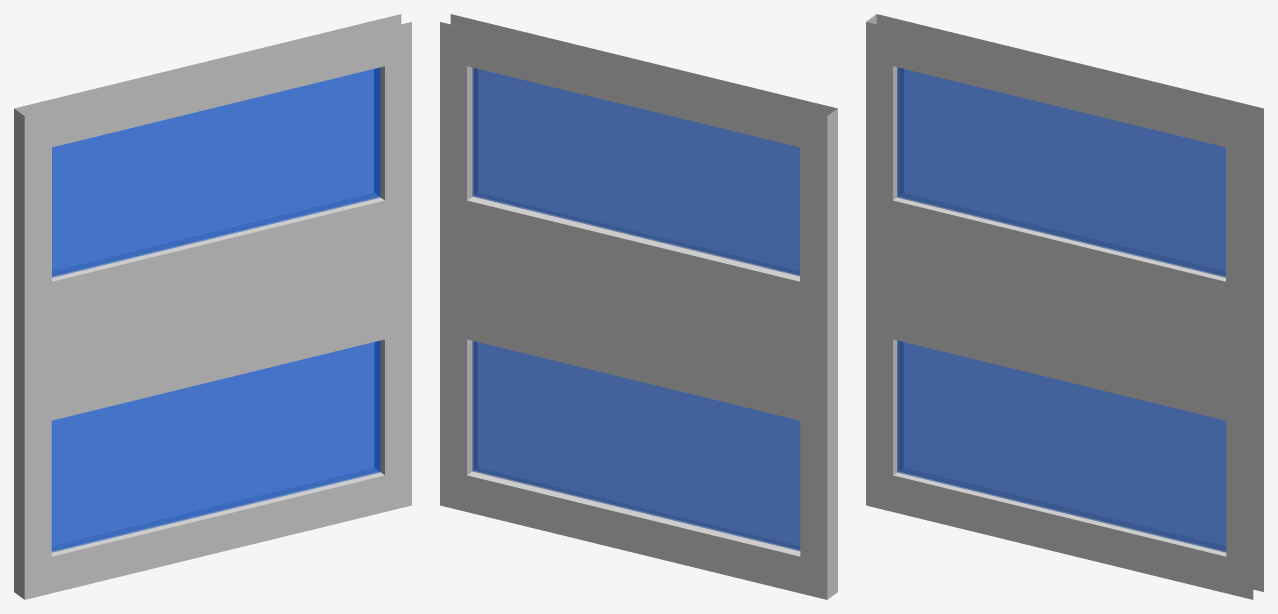
File: elevatordoor_3ds.fbx
3 views of the same model, side by side, from view 1: azimuth 30°, elevation 25°; view 2: azimuth 150°, elevation 25°; view 3: azimuth 330°, elevation 25° (orthographic).
Parts seen in each view (by area): view 1: ElevatorDoor001; view 2: ElevatorDoor001; view 3: ElevatorDoor001.
Boxes of the visible parts, left/top/right/bottom form: ElevatorDoor001: left=14, top=14, right=411, bottom=599; ElevatorDoor001: left=440, top=14, right=837, bottom=599; ElevatorDoor001: left=866, top=14, right=1263, bottom=599.
Bounding box in the file's own units: 1.97 × 2.36 × 0.0944.
